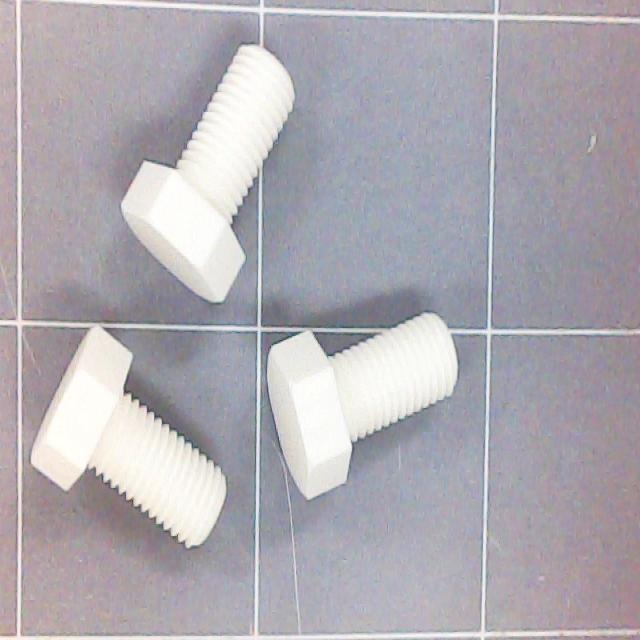bolts: (99, 22, 337, 307), (7, 322, 270, 570), (258, 303, 477, 502)
